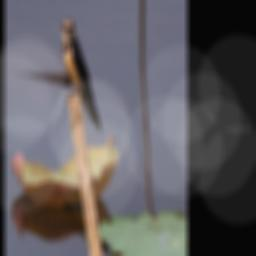Swallow: (61, 17, 103, 136)
